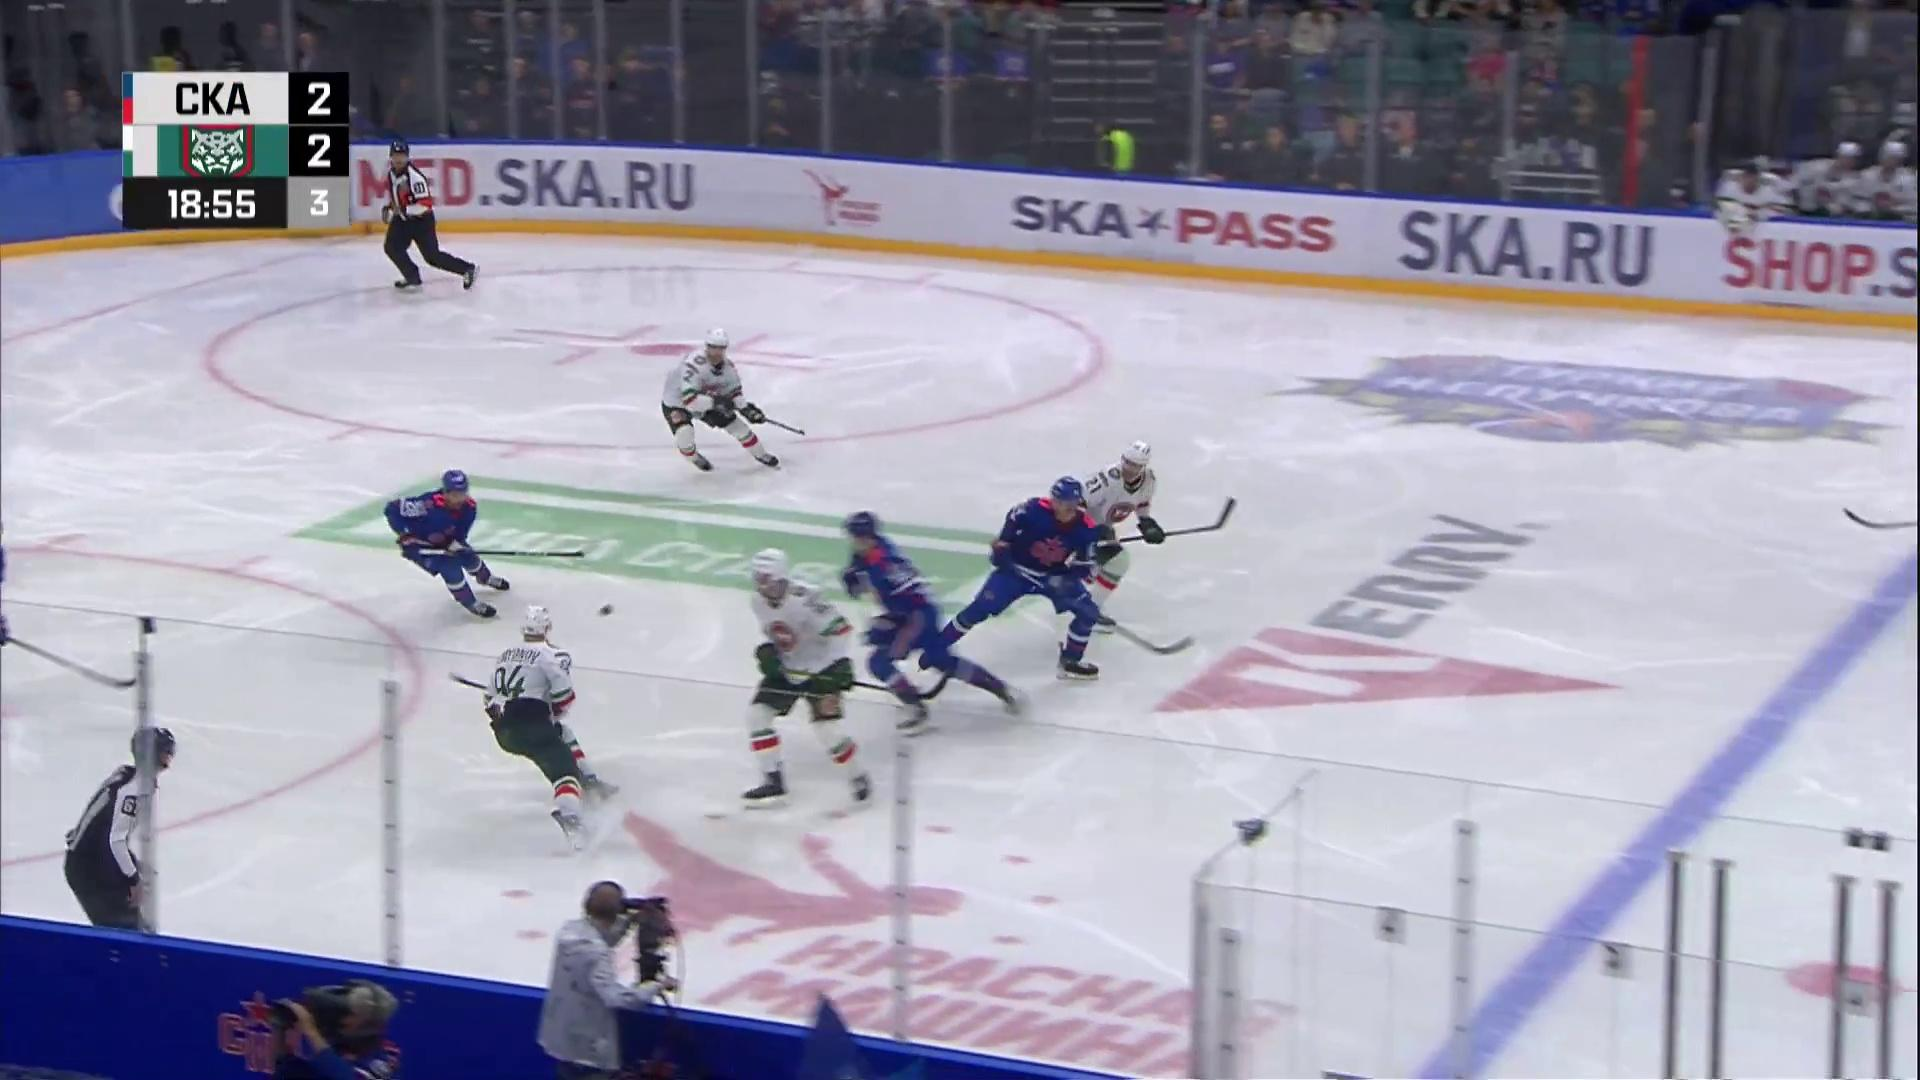ball: (599, 604, 613, 617)
